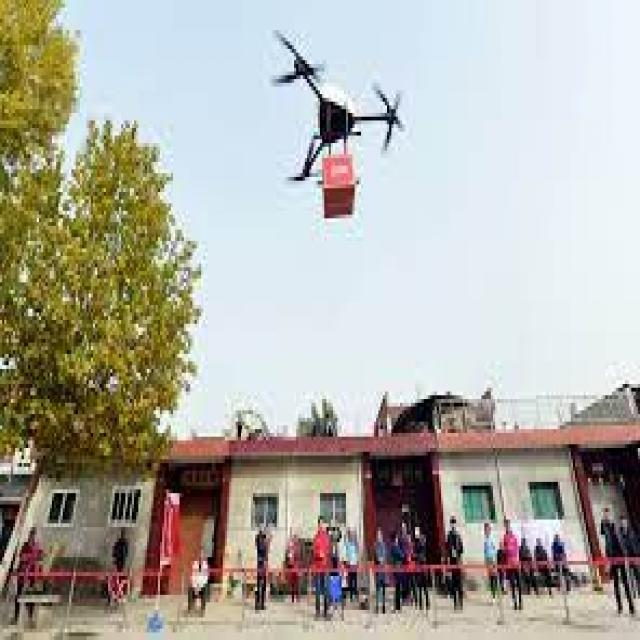drones: (249, 3, 411, 217)
